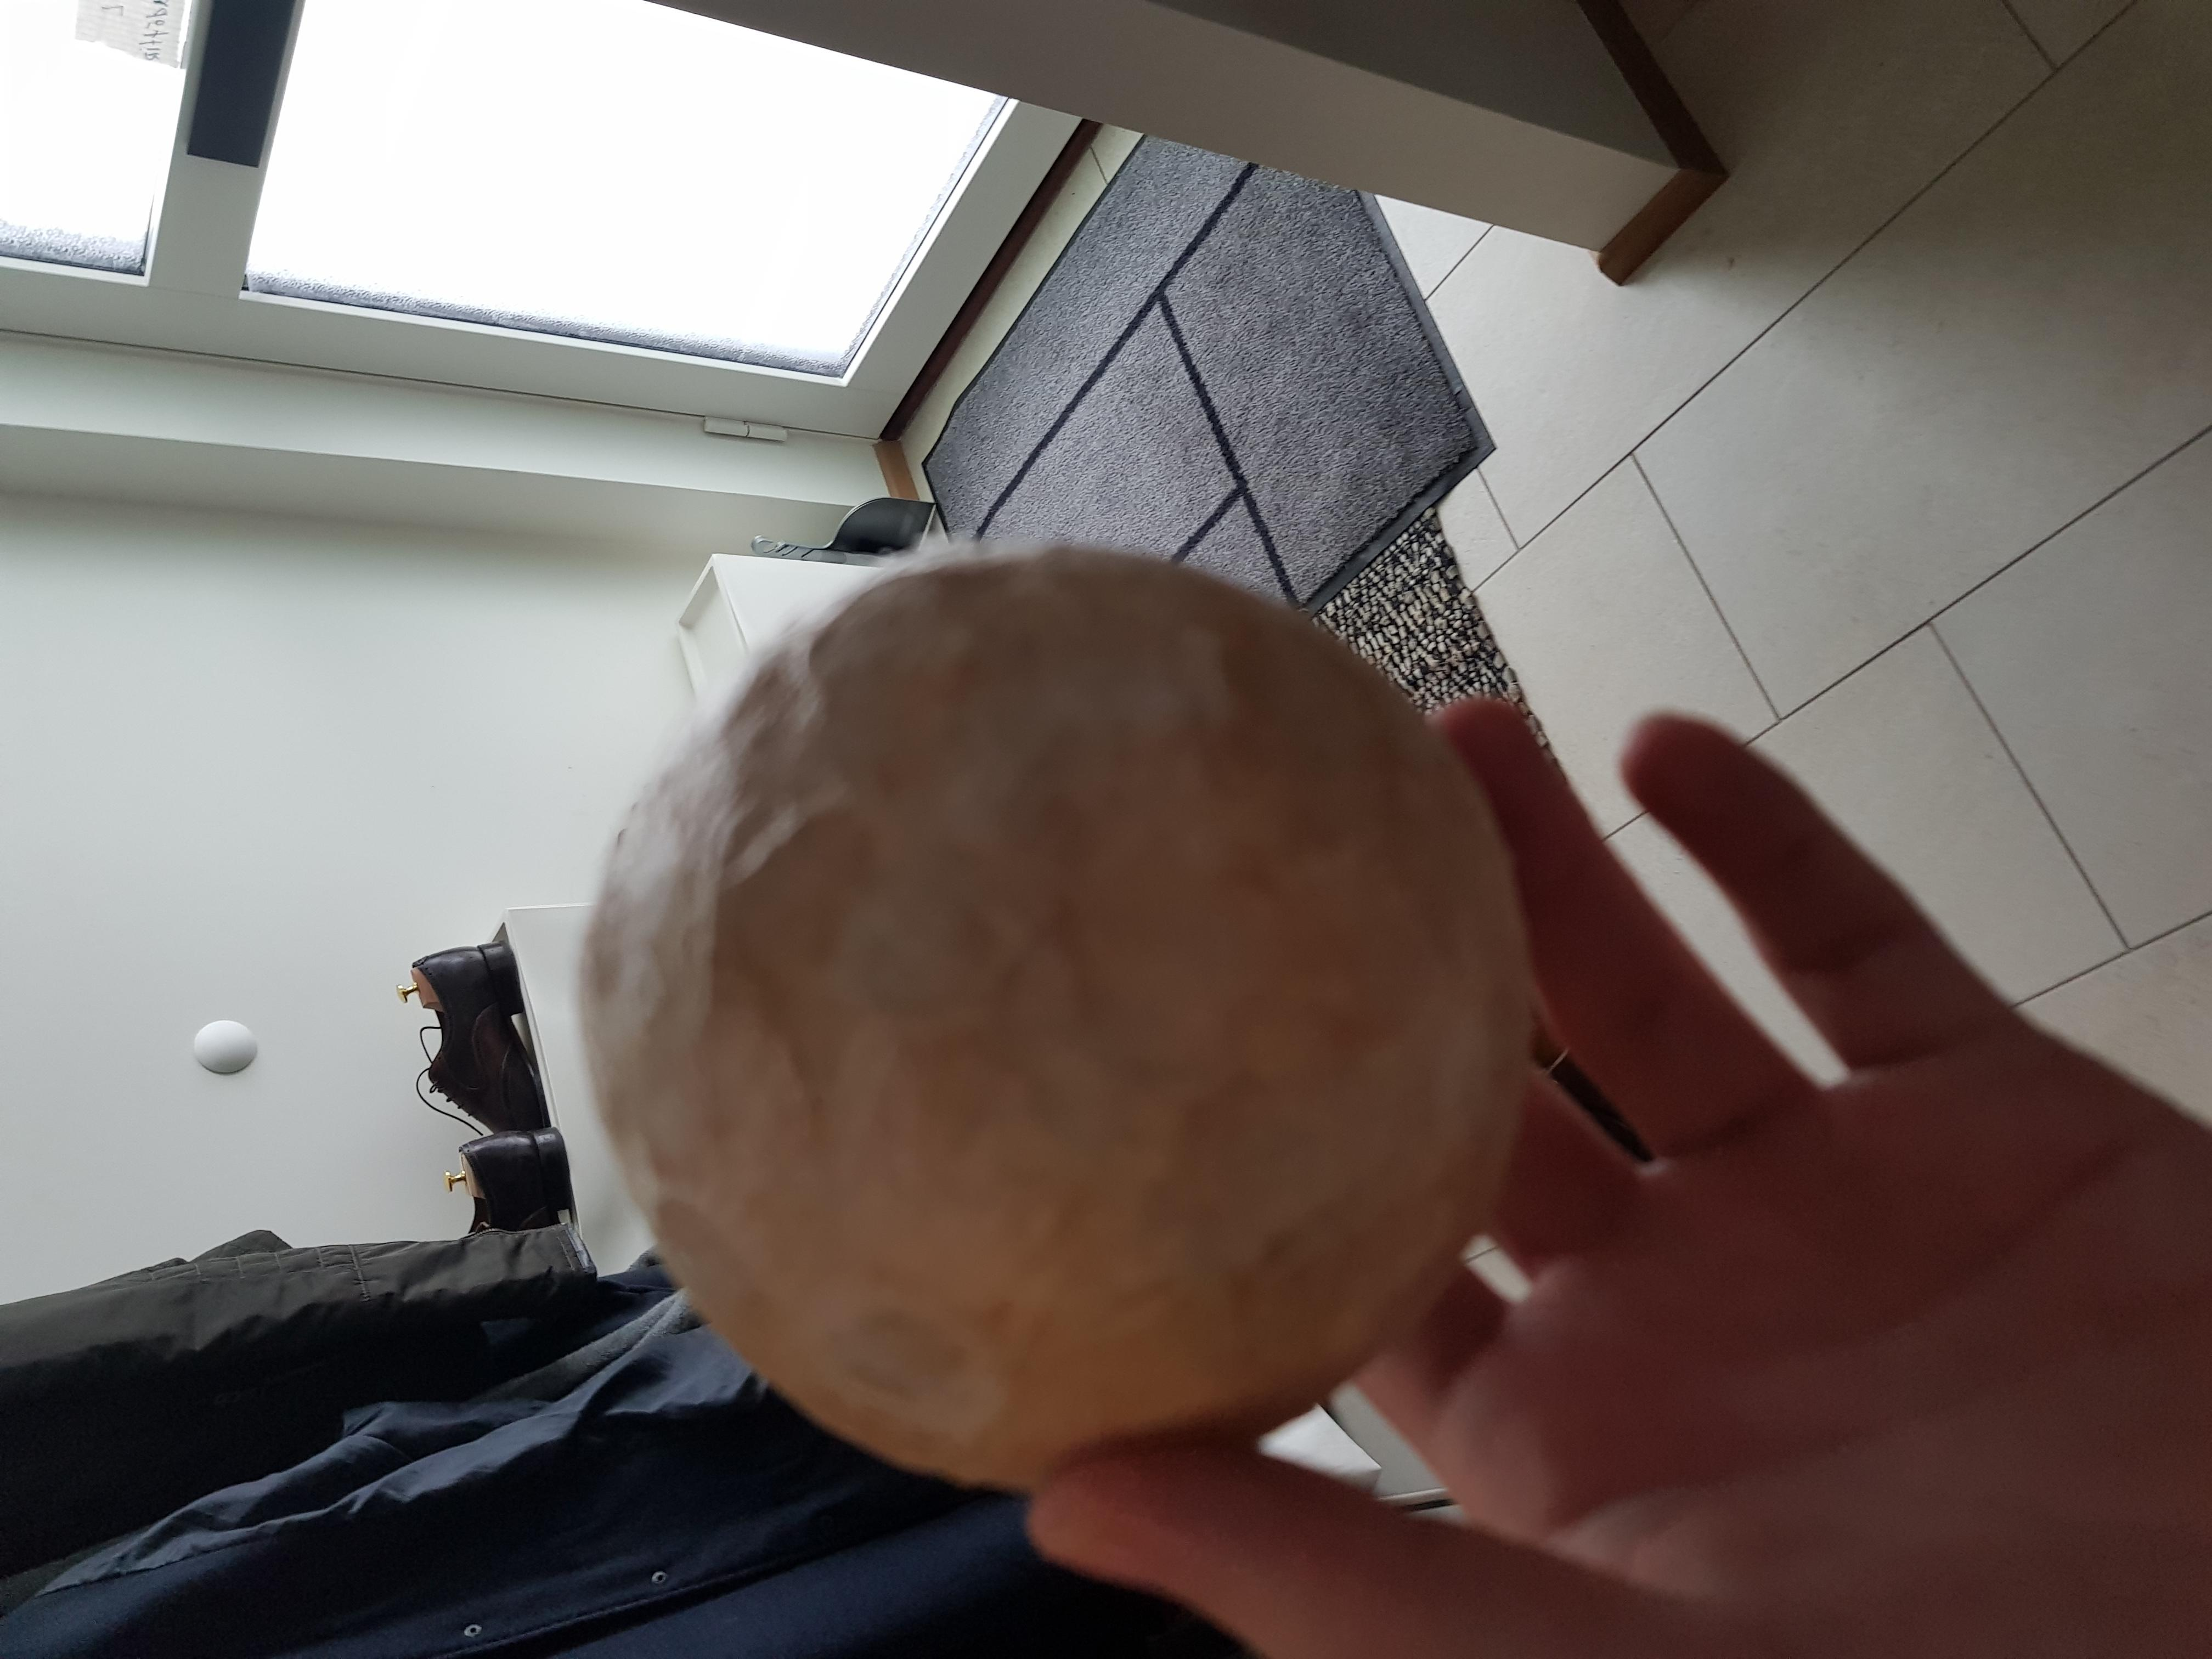sphere: (578, 540, 1521, 1445)
